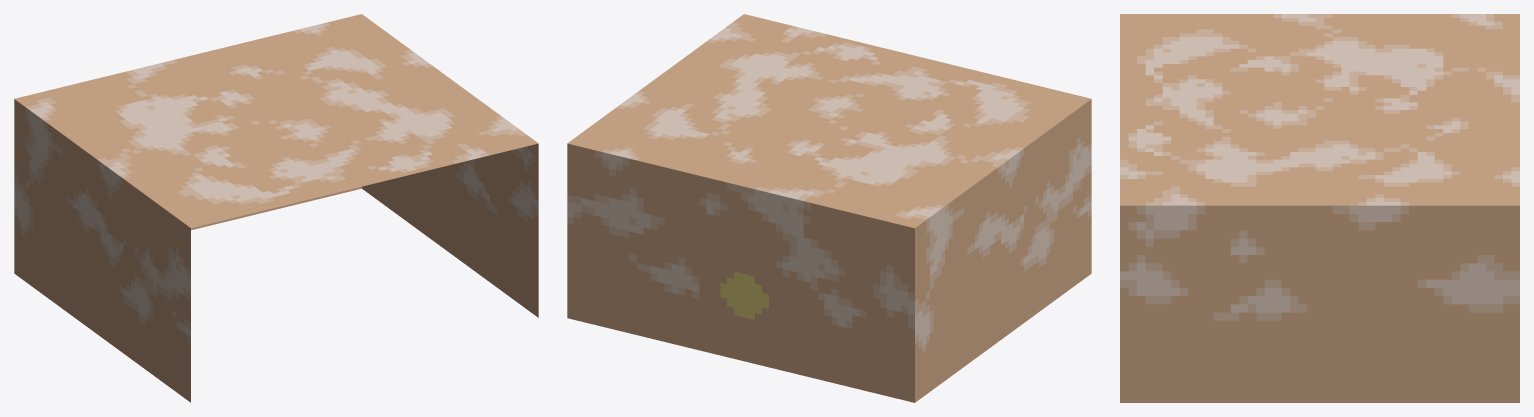
The model's file is sky twilight.fbx.
3 views of the same model, side by side, from view 1: azimuth 30°, elevation 25°; view 2: azimuth 150°, elevation 25°; view 3: azimuth 270°, elevation 25° (orthographic). The views are drawn at different scales.
Visible parts, largest first — view 1: sky_twilight; view 2: sky_twilight; view 3: sky_twilight.
Boxes of the visible parts, x1,y1,x2,y2 form: sky_twilight: (14,14,538,402); sky_twilight: (567,14,1091,402); sky_twilight: (1120,14,1519,402).
Size of the model in its own units: 2000 by 960 by 1762.
